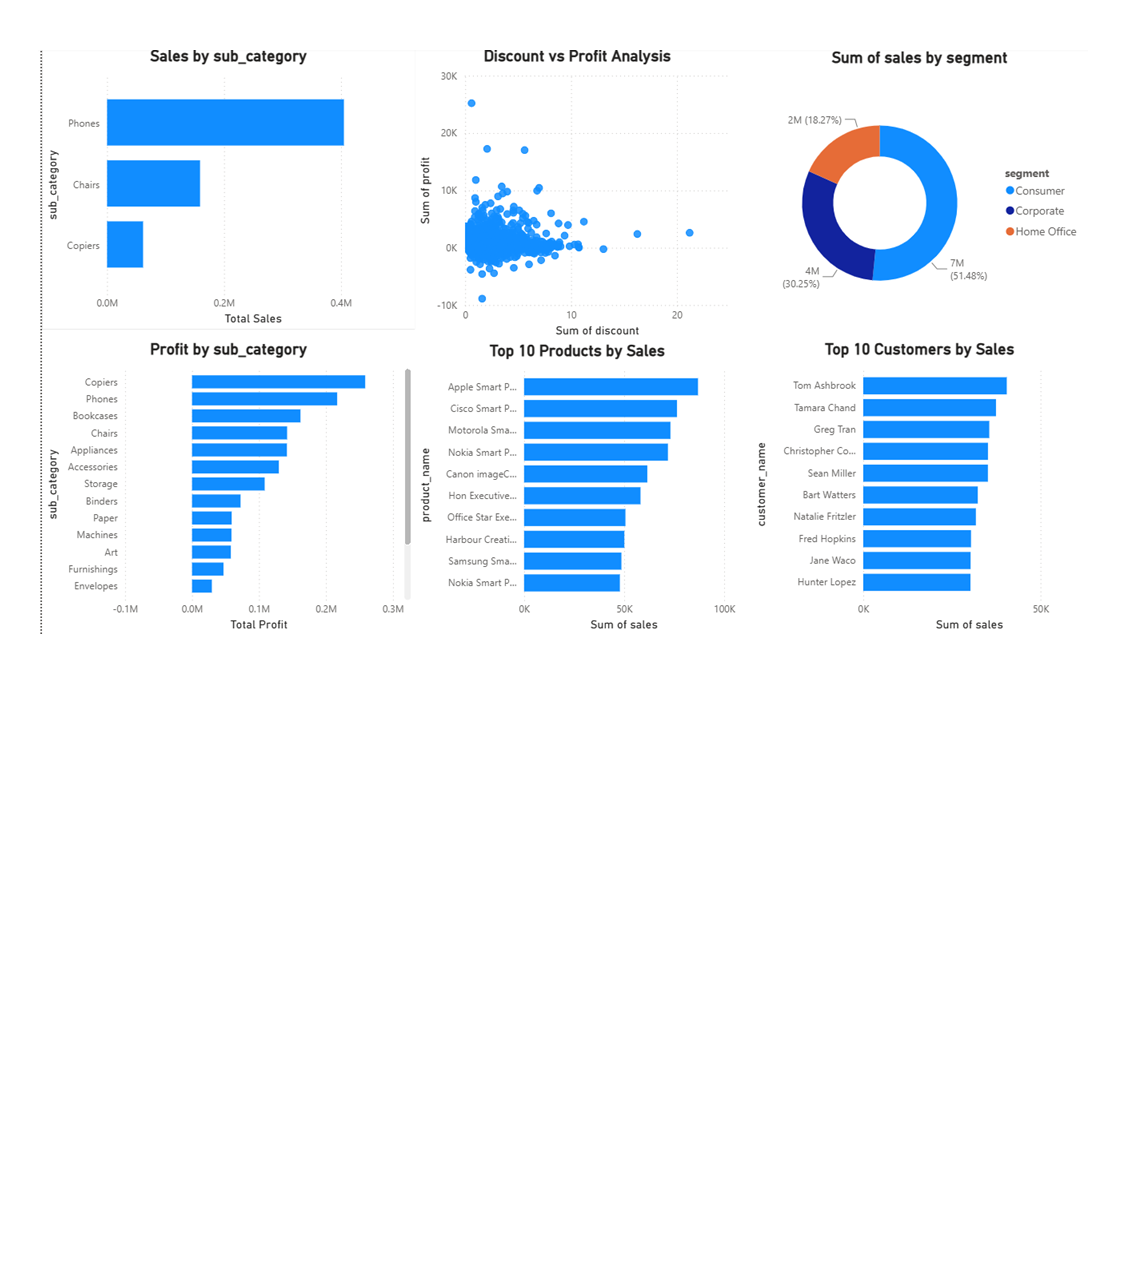

The dashboard page shown, as its layout file describes it:
{"tool":"powerbi","page":{"name":"Sales & Profit Breakdown Analysis","canvas":[1280,720],"ordinal":1},"visuals":[{"type":"donutChart","fields":{"Category":["superstore_clean.segment"],"Y":["Sum(superstore_clean.sales)"]},"box":[866.7,2.9,413,356.5],"z":0},{"type":"clusteredBarChart","title":"Top 10 Customers by Sales","fields":{"Category":["superstore_clean.customer_name"],"Y":["Sum(superstore_clean.sales)"]},"box":[866.7,359.4,413,360.9],"z":1000},{"type":"clusteredBarChart","title":"Sales by sub_category","fields":{"Category":["superstore_clean.sub_category"],"Y":["superstore_clean.Total Sales"]},"box":[0,0,456.5,346.4],"z":2000},{"type":"clusteredBarChart","title":"Profit by sub_category","fields":{"Category":["superstore_clean.sub_category"],"Y":["superstore_clean.Total Profit"]},"box":[0,359.4,456.5,360.9],"z":3000},{"type":"scatterChart","title":"Discount vs Profit Analysis","fields":{"X":["Sum(superstore_clean.discount)"],"Y":["Sum(superstore_clean.profit)"],"Category":["superstore_clean.product_name"]},"box":[455.5,0,397.5,360.3],"z":4000},{"type":"clusteredBarChart","title":"Top 10 Products by Sales","fields":{"Category":["superstore_clean.product_name"],"Y":["Sum(superstore_clean.sales)"]},"box":[455.5,360.3,397.5,360.3],"z":5000}]}

Visuals, with their boxes on the page's 1280x720 design canvas (x1, y1, x2, y2). These are canvas units, not pixel positions in the 1143x1264 screenshot, which may show the page scaled, cropped or inside an application window:
donutChart - superstore_clean.segment x Sum(superstore_clean.sales): Rect(867, 3, 1280, 359)
"Top 10 Customers by Sales" clusteredBarChart: Rect(867, 359, 1280, 720)
"Sales by sub_category" clusteredBarChart: Rect(0, 0, 456, 346)
"Profit by sub_category" clusteredBarChart: Rect(0, 359, 456, 720)
"Discount vs Profit Analysis" scatterChart: Rect(456, 0, 853, 360)
"Top 10 Products by Sales" clusteredBarChart: Rect(456, 360, 853, 721)
